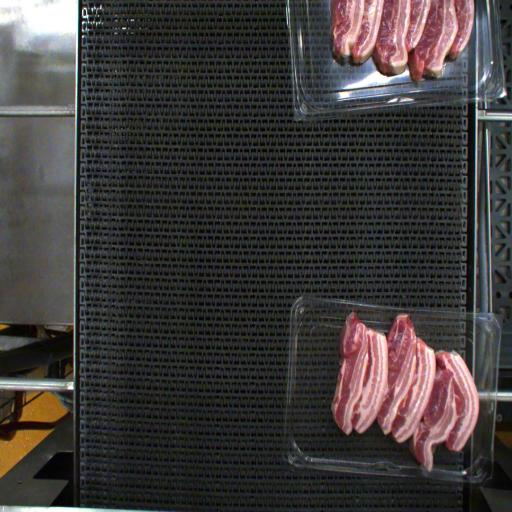packaging-error: (414, 456, 440, 480), (398, 304, 411, 324)
